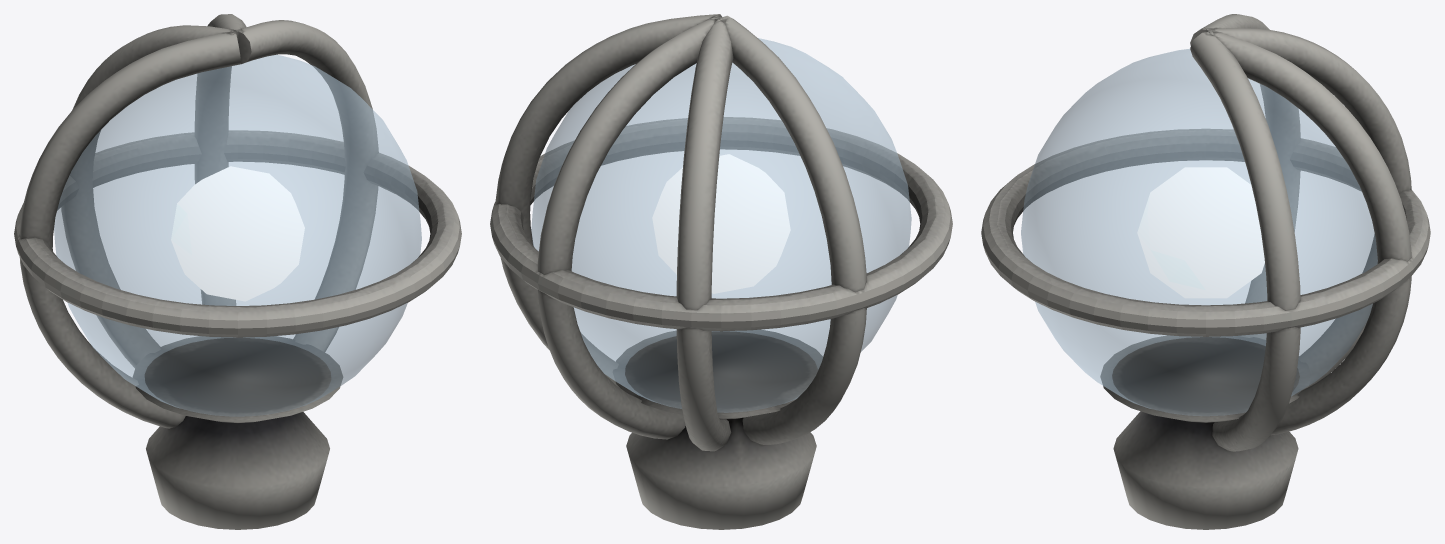
The model's file is arma_orbe_cinza.glb.
The picture shows the model from 3 angles, left to right: view 1: azimuth 30°, elevation 25°; view 2: azimuth 150°, elevation 25°; view 3: azimuth 270°, elevation 25°; orthographic projection. The views are drawn at different scales.
Visible parts, largest first — view 1: arma_orbe_cinza, Sphere, Icosphere; view 2: arma_orbe_cinza, Sphere, Icosphere; view 3: arma_orbe_cinza, Sphere, Icosphere.
Boxes of the visible parts, box(x1,y1,x2,y2) form: arma_orbe_cinza: box(14, 14, 461, 529); Sphere: box(54, 54, 421, 416); Icosphere: box(171, 166, 304, 301); arma_orbe_cinza: box(490, 14, 952, 529); Sphere: box(531, 38, 911, 412); Icosphere: box(652, 154, 790, 293); arma_orbe_cinza: box(981, 14, 1430, 529); Sphere: box(1021, 48, 1377, 415); Icosphere: box(1137, 167, 1264, 298).
Bounding box in the file's own units: 0.17 × 0.1942 × 0.17.
Materials: 3 (1 with a texture image).
